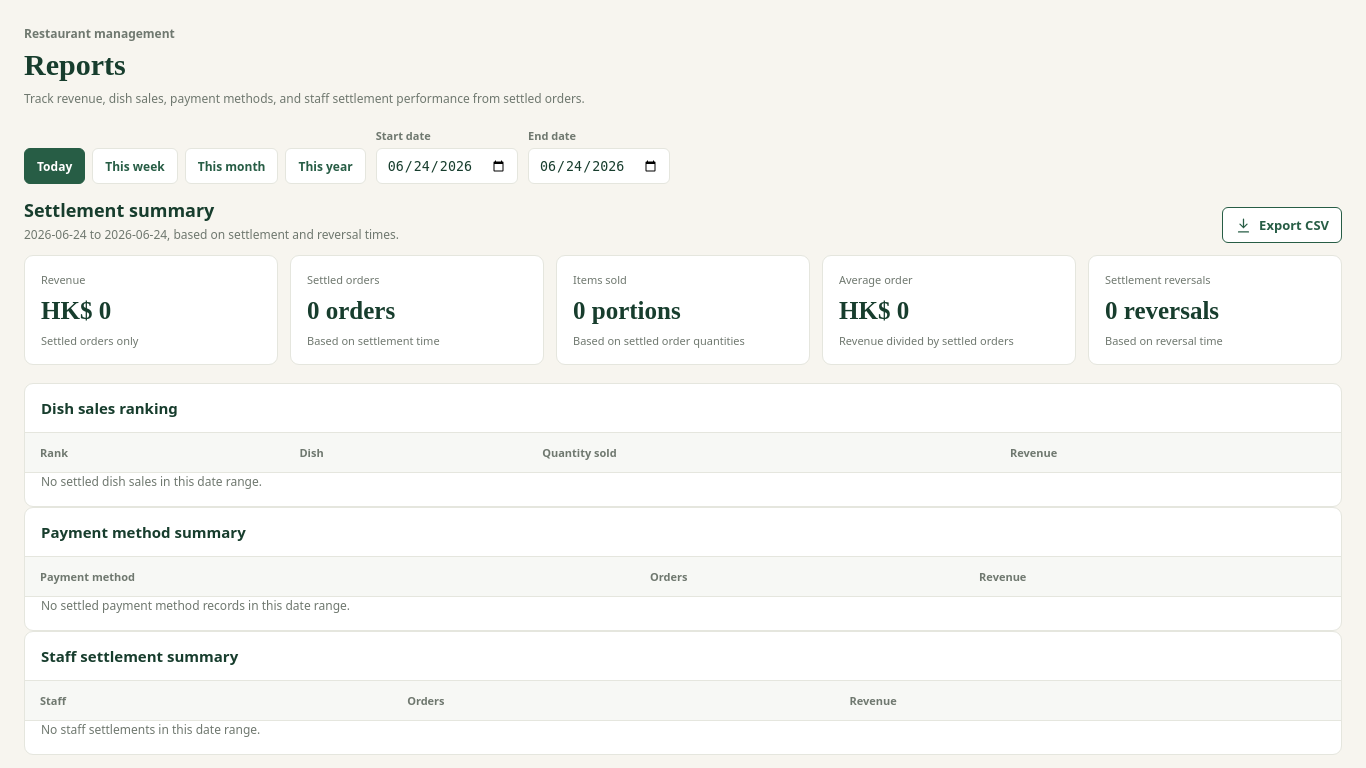
Test: Reports › loads a custom inclusive end date range from the date inputs
Check: the text "No settled dish sales in this date range." is shown, box [41,473,262,490]
Type "2026-06-20" into the date field labelled "Start date" at {"x": 447, "y": 166}, box [376,148,518,184]
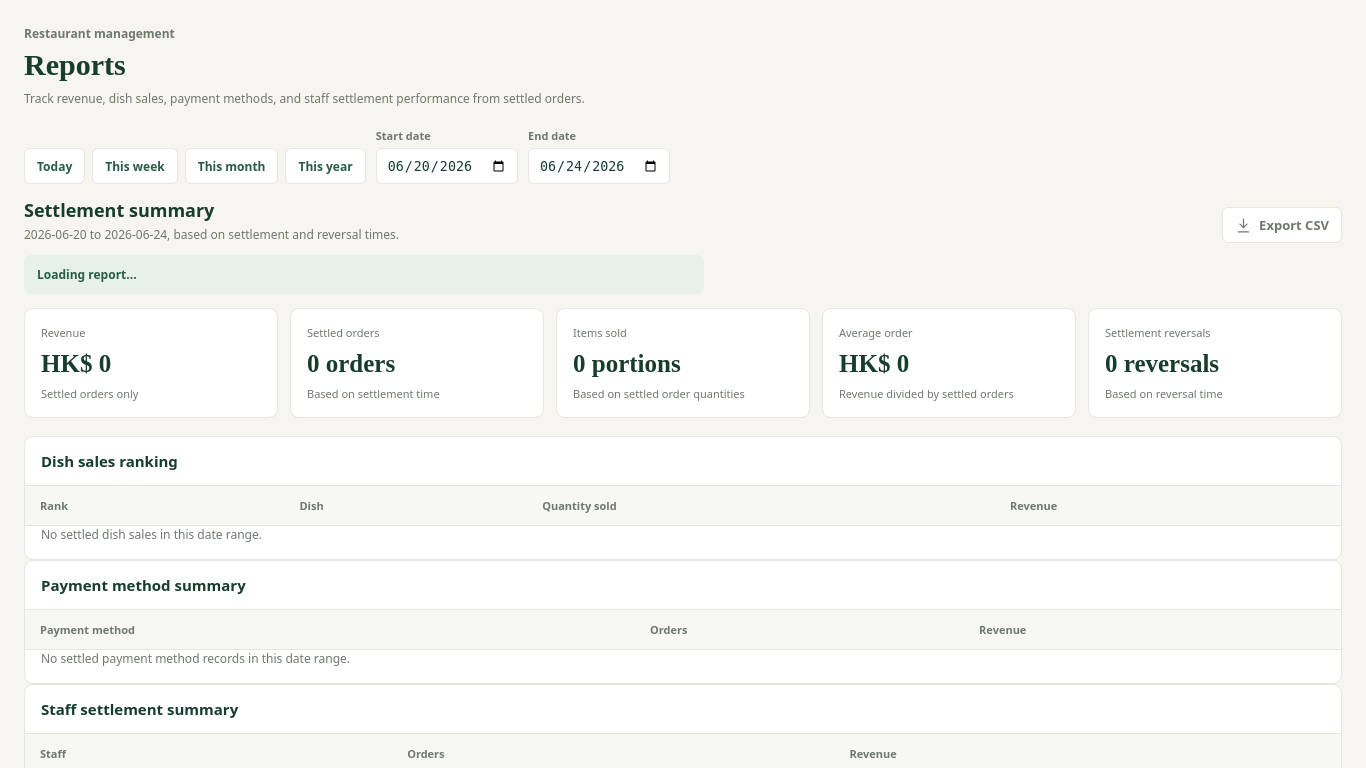
Type "2026-06-20" into the date field labelled "End date" at {"x": 599, "y": 166}, box [528,148,670,184]
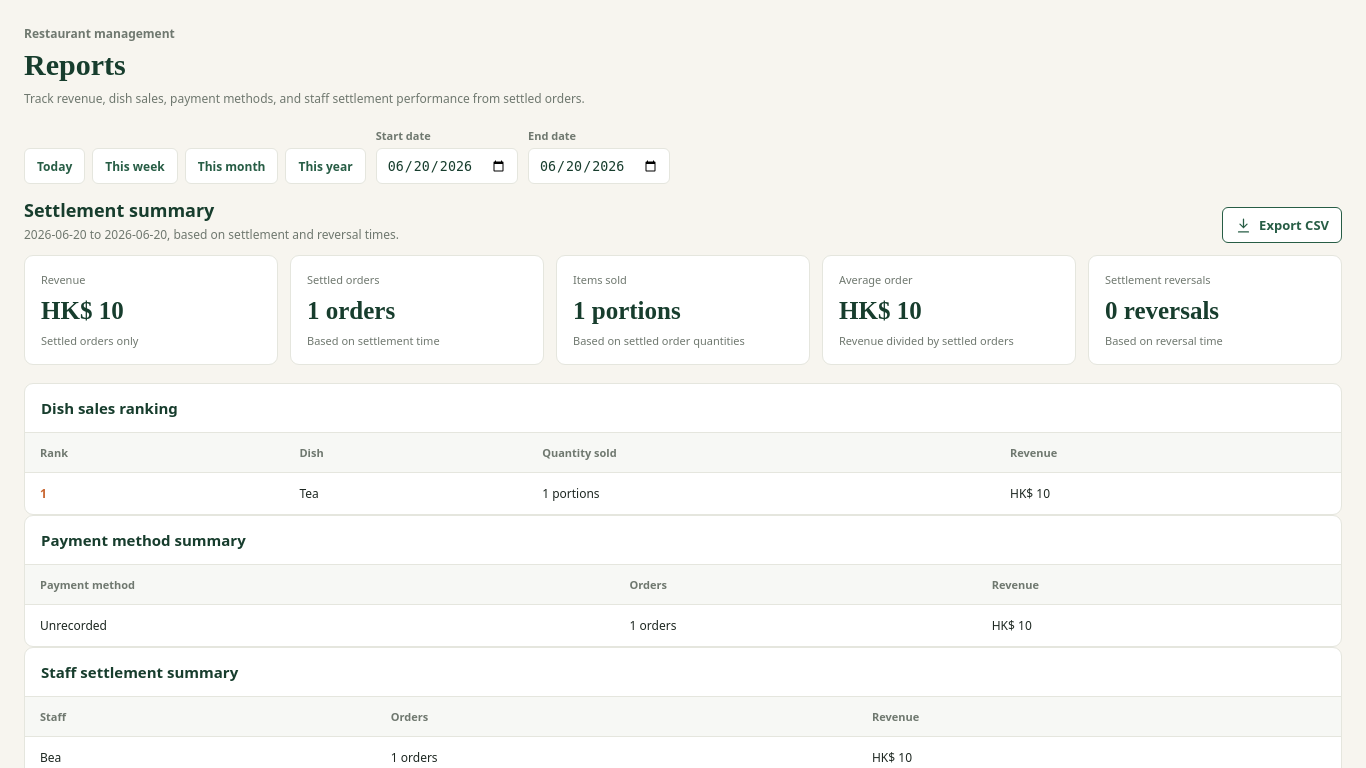
Check: the text "Tea" is shown, box [284,473,527,514]
Check: the 1st text "HK$ 10" is shown, box [41,297,124,324]
